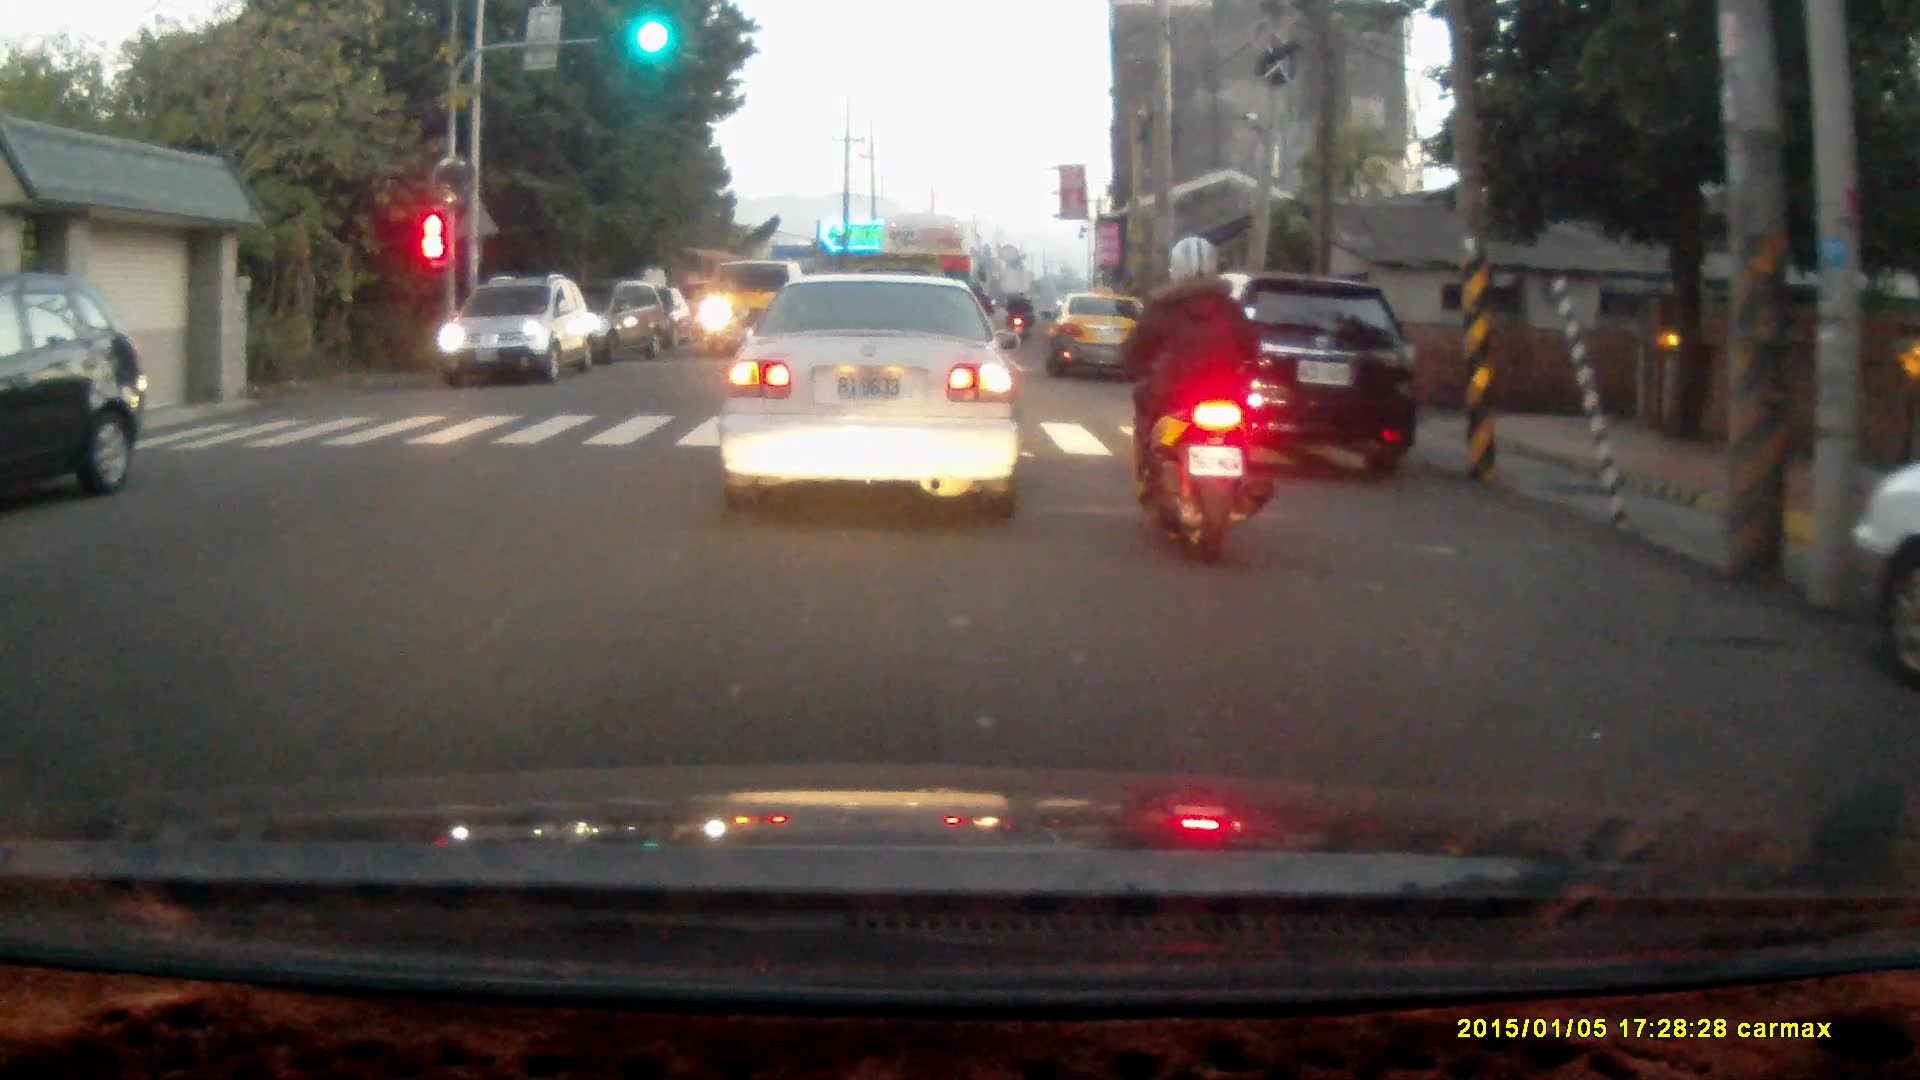rider: (1119, 231, 1272, 562)
vehicle: (715, 269, 1022, 525), (1143, 277, 1427, 480), (1, 272, 153, 504), (1829, 457, 1920, 698), (438, 278, 598, 394), (878, 214, 985, 355), (699, 260, 821, 362), (546, 278, 670, 369), (1046, 293, 1153, 385)
